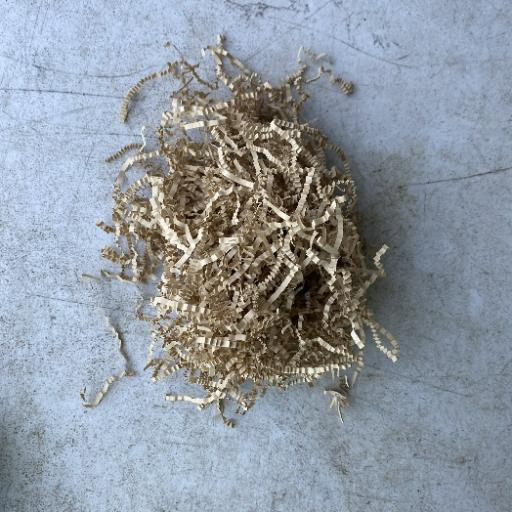Cardboard: (83, 33, 402, 428)
